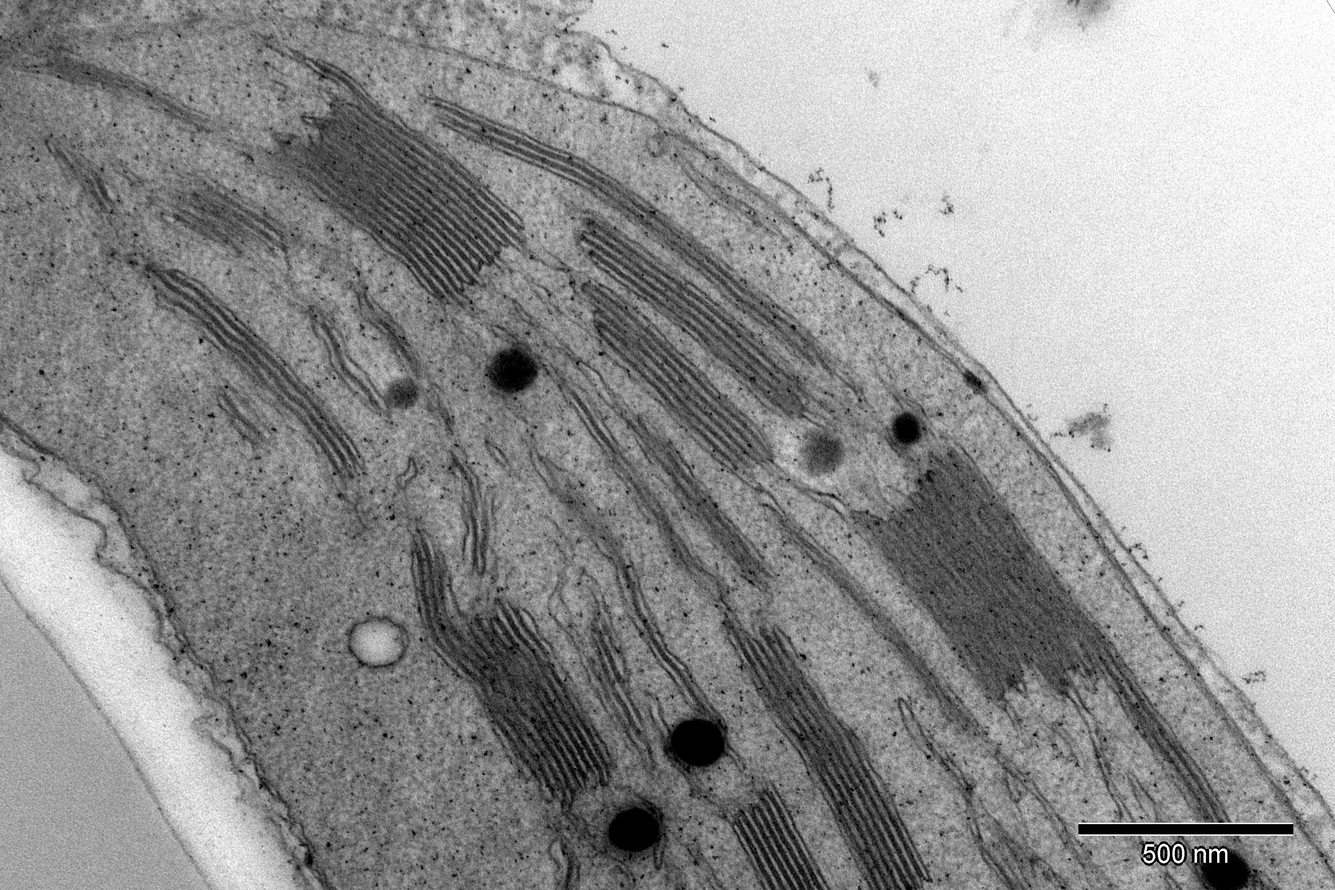granum: (856, 434, 1237, 822), (433, 93, 836, 380), (257, 59, 533, 308), (403, 527, 620, 808), (726, 620, 936, 890), (568, 204, 820, 423), (145, 263, 373, 491), (574, 274, 781, 484), (622, 405, 784, 599), (39, 41, 217, 136), (154, 163, 297, 270), (560, 605, 652, 749), (724, 777, 835, 890), (36, 128, 127, 221)
